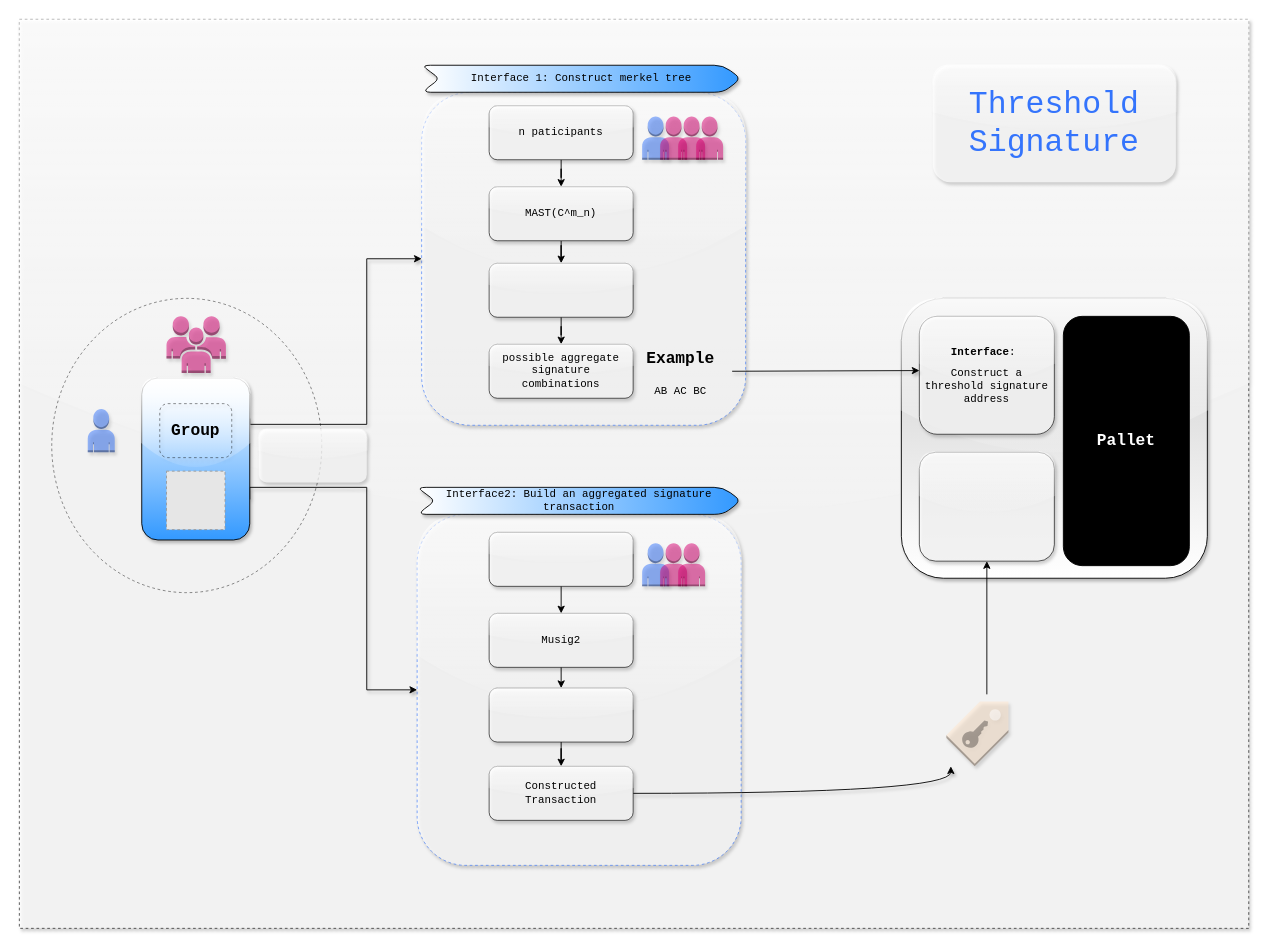
This 1270x950 diagram has some shape labels left out. Grey dashed boxes stand in for pictures. Here are the shapes that lost their labels. From the top down, the centre of each, then its label:
the point at 562,291: Aggrevate PublicKey
the point at 313,456: m / n
the point at 987,507: Interface : Send transaction and verify
the point at 562,560: m paticipants
the point at 562,716: Aggrevate Signature
